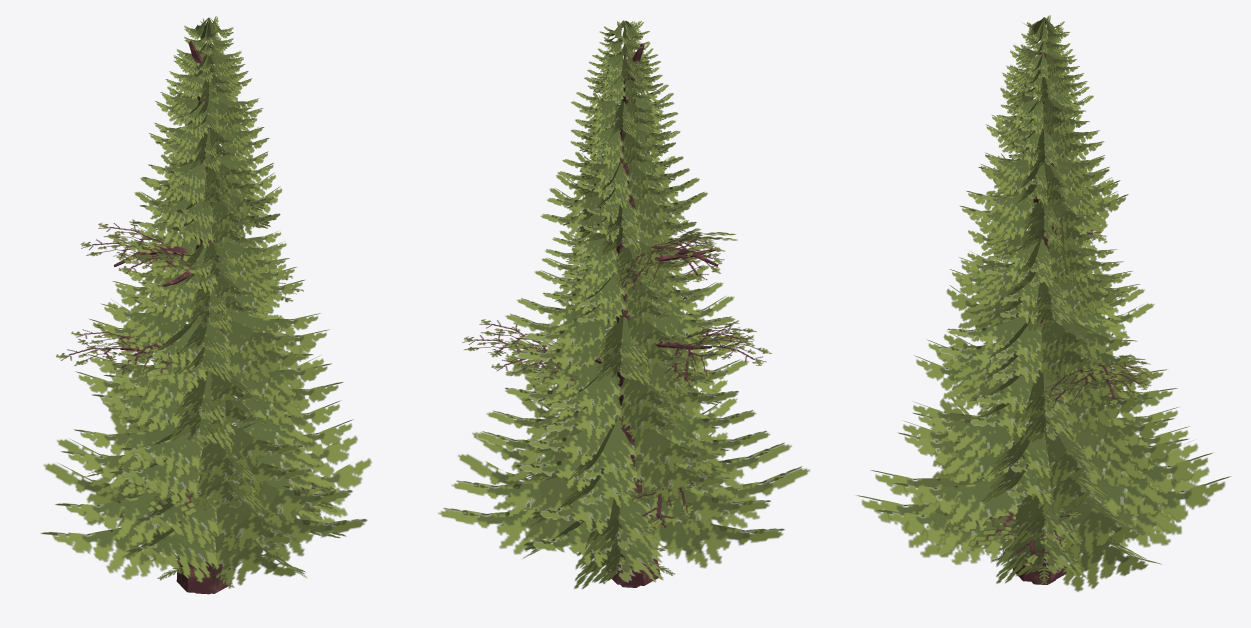
Rendered from long_grass_01.glb.
3 views of the same model, side by side, from view 1: azimuth 30°, elevation 25°; view 2: azimuth 150°, elevation 25°; view 3: azimuth 270°, elevation 25° (orthographic).
Visible parts, largest first — view 1: spiky_tree, tree_01, trunk_04; view 2: spiky_tree, tree_01, trunk_04; view 3: spiky_tree, tree_01, trunk_04, trunk_01.
Boxes of the visible parts, <box> form: spiky_tree: <box>40,16,371,585</box>; tree_01: <box>56,41,336,519</box>; trunk_04: <box>176,548,230,593</box>; spiky_tree: <box>438,20,809,589</box>; tree_01: <box>462,43,771,530</box>; trunk_04: <box>606,554,660,585</box>; spiky_tree: <box>856,15,1231,591</box>; tree_01: <box>952,41,1157,566</box>; trunk_04: <box>1012,522,1066,582</box>; trunk_01: <box>952,511,1081,565</box>.
Size of the model in its own units: 26.38 by 43.36 by 26.91.
Materials: 11 (11 with a texture image).
